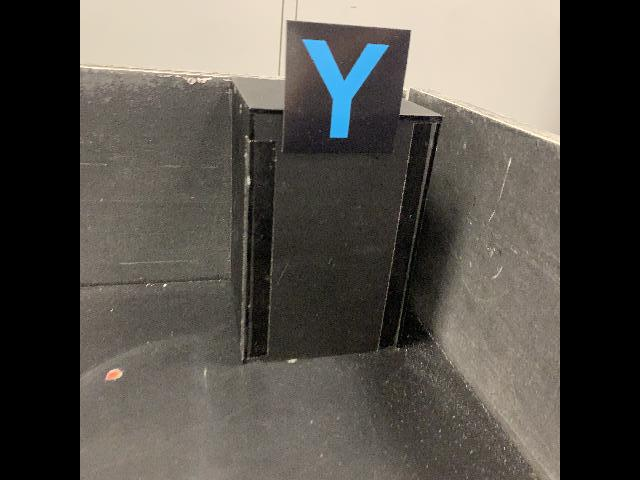y: (281, 19, 412, 156)
